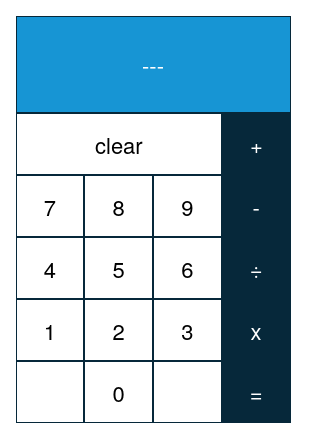
Calculator › ÷ operations › handles division by 0 with displaying Infinity
The image size is (320, 440).
Click the button "8" at [119, 206], box [84,175,153,237]
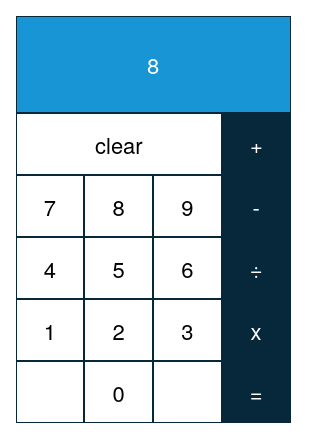
Click the button "÷" at [256, 268], box [222,237,291,299]
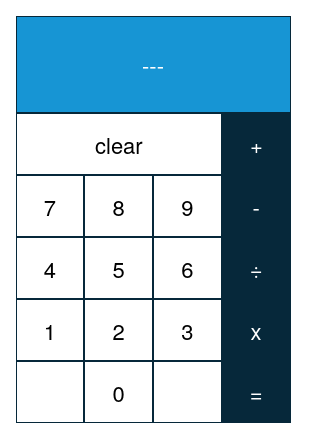
Click the button "0" at [119, 392], box [84,361,153,423]
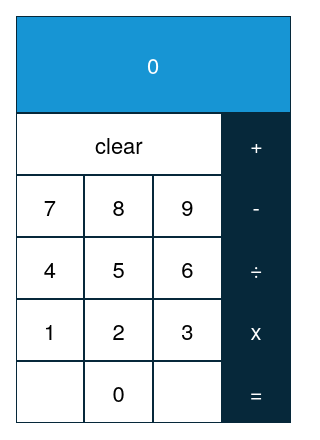
Click the button "=" at [256, 392], box [222,361,291,423]
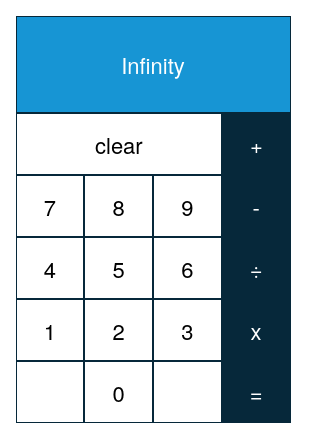
Result: the text with test id "entry" reads "Infinity" at [121,49,185,80]
